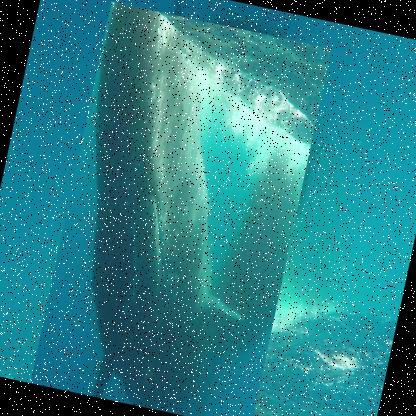sperm_whale: (29, 0, 333, 415)
